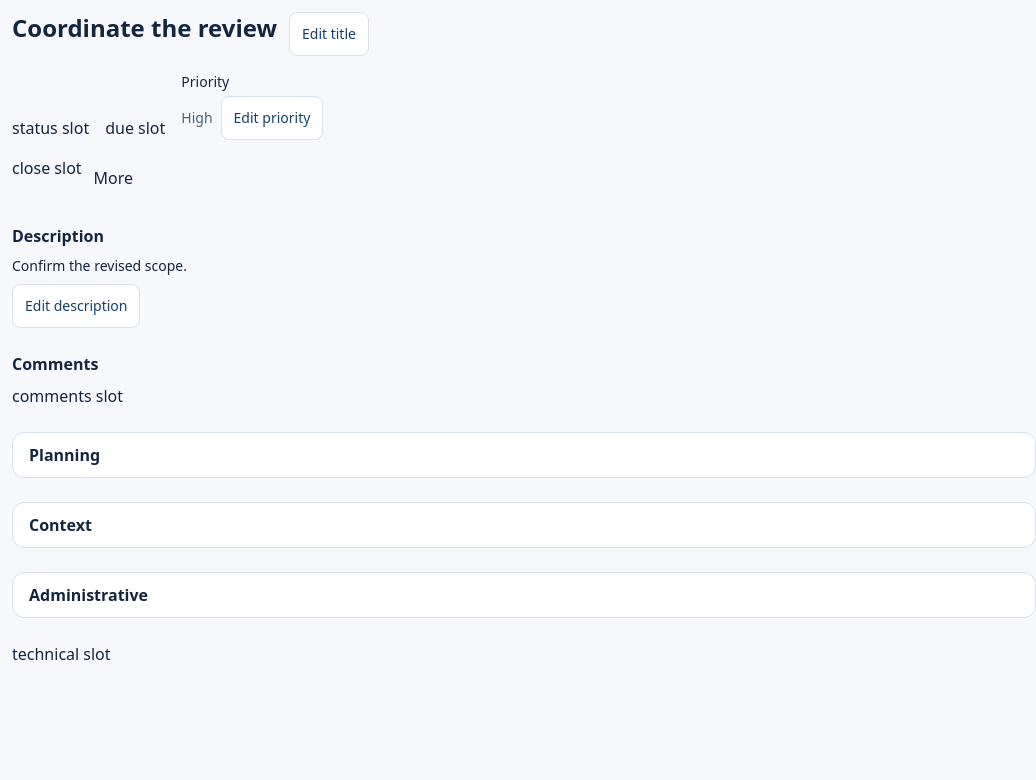
Test: progressive Task detail › uses product language for planning fields rather than backend field names
The image size is (1036, 780).
Click the heading "Planning" at (65,455), box [29,444,100,466]
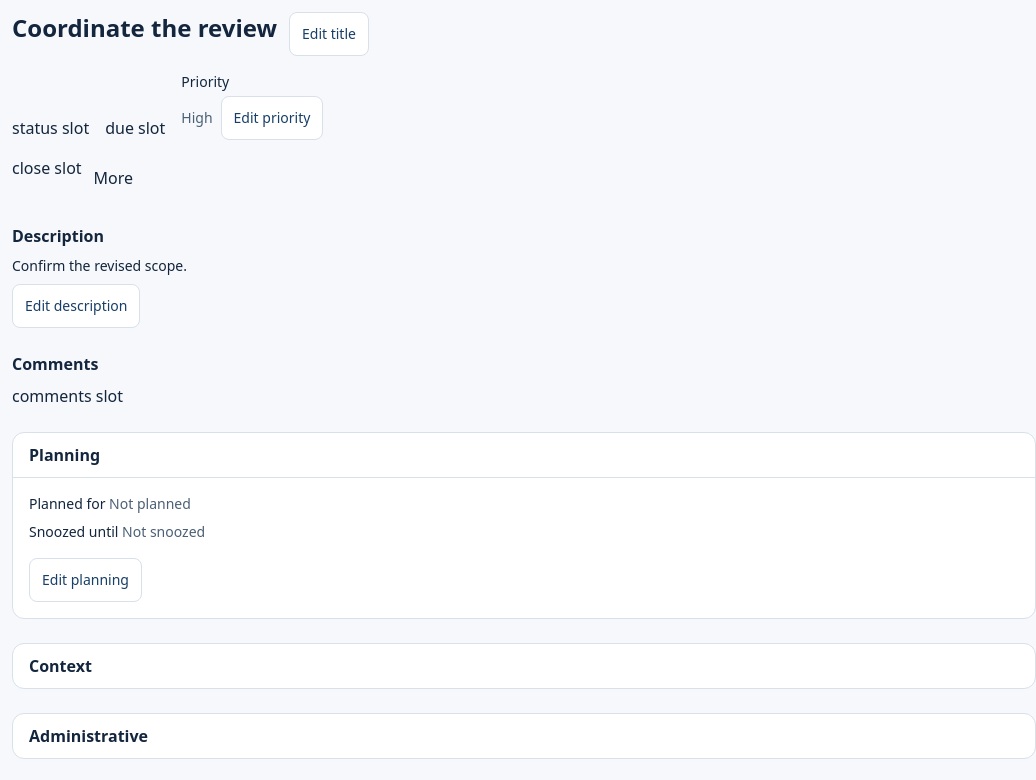
Expected: the element with test id "task-planning-section" shows "Planned for", [29,494,106,513]
Expected: the element with test id "task-planning-section" shows "Snoozed until", [29,522,118,541]
